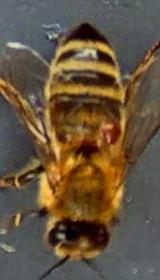varroa_mite: (90, 108, 130, 152)
